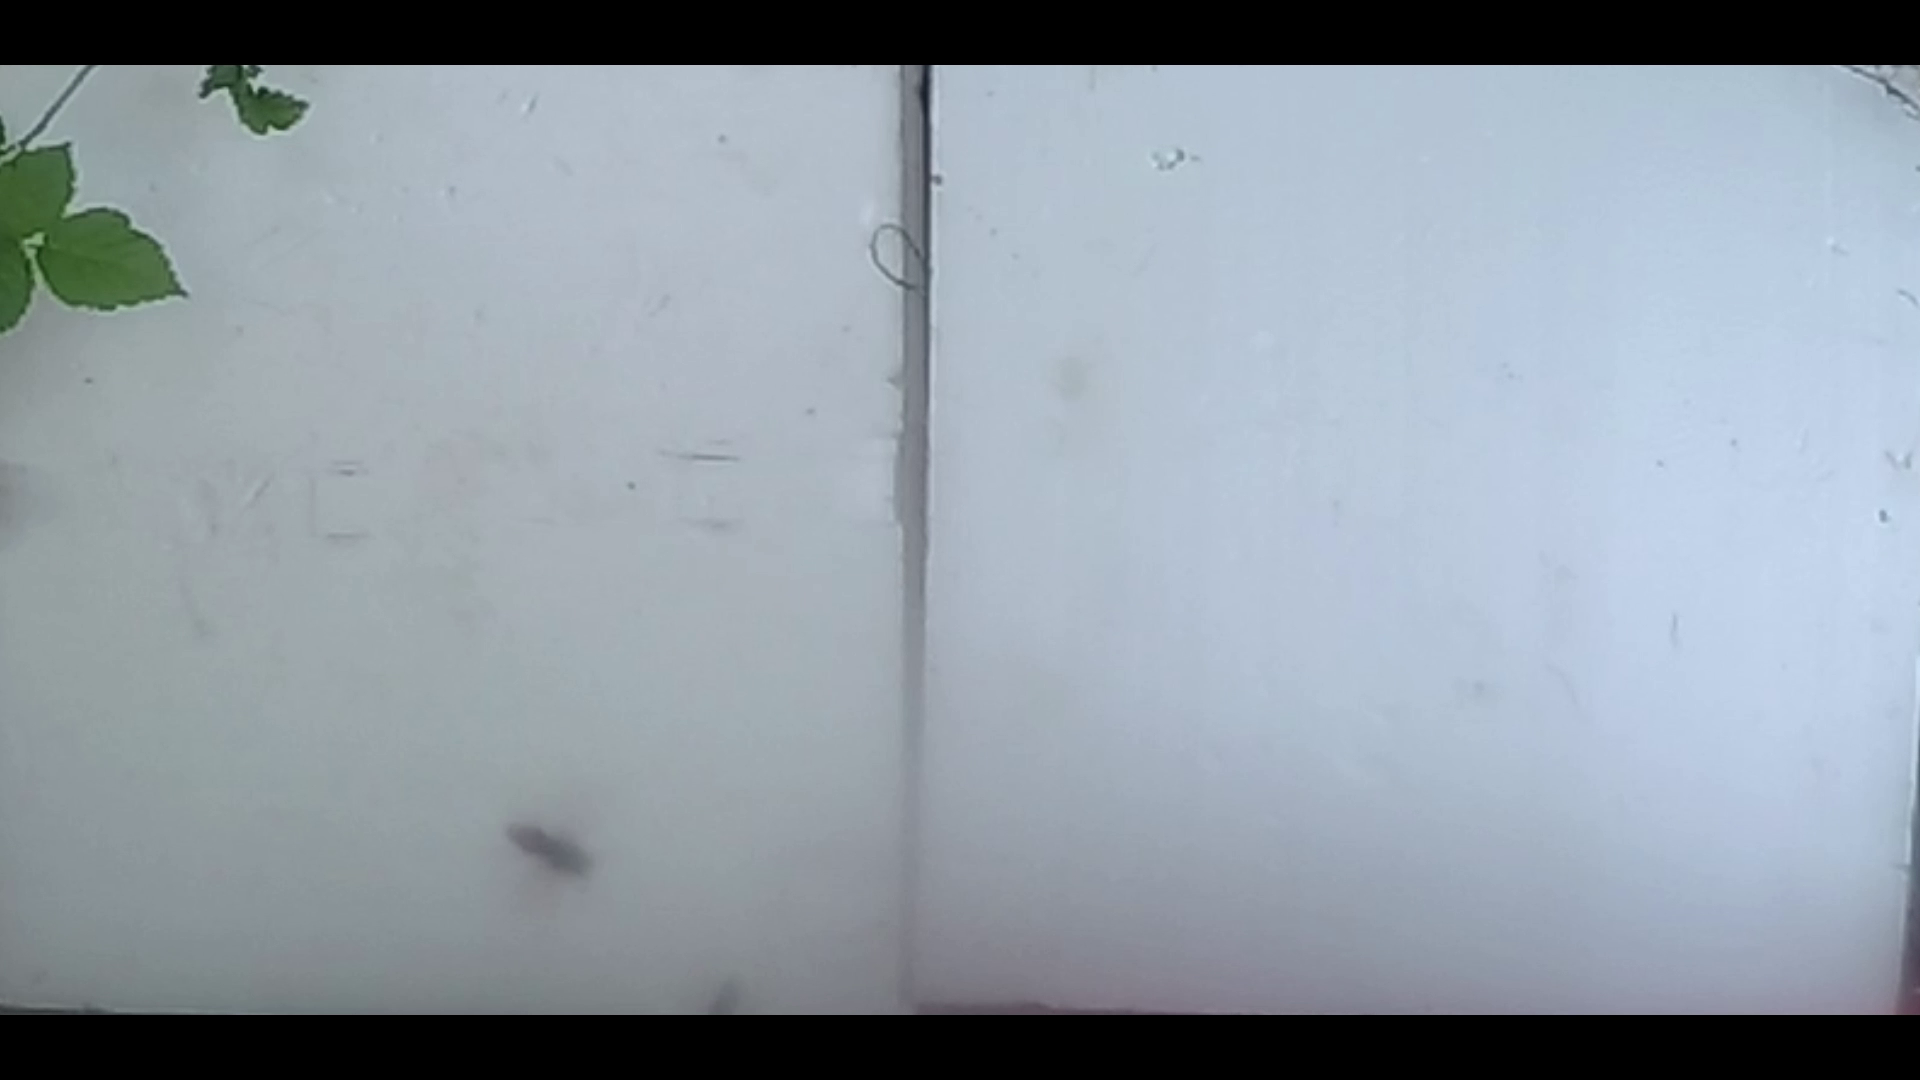Asian_hornets: (491, 799, 625, 913)
